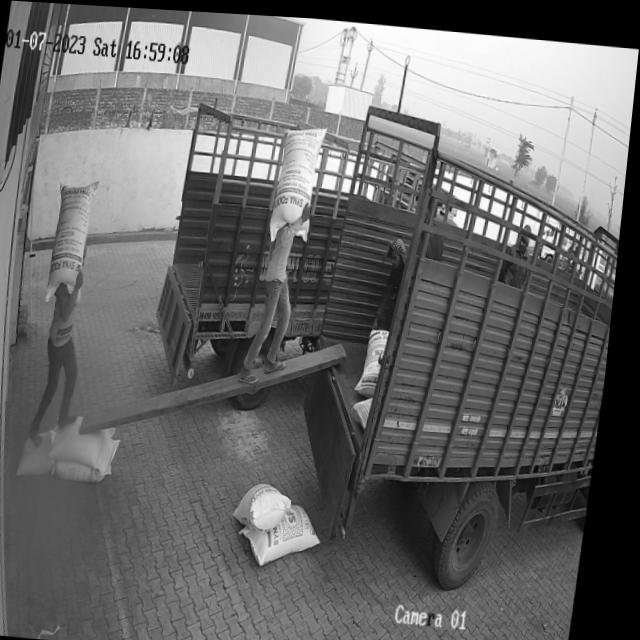sack: (272, 121, 329, 240), (50, 174, 103, 301), (246, 495, 335, 565), (55, 411, 125, 468), (62, 432, 129, 483), (242, 476, 303, 530), (25, 426, 68, 478)
